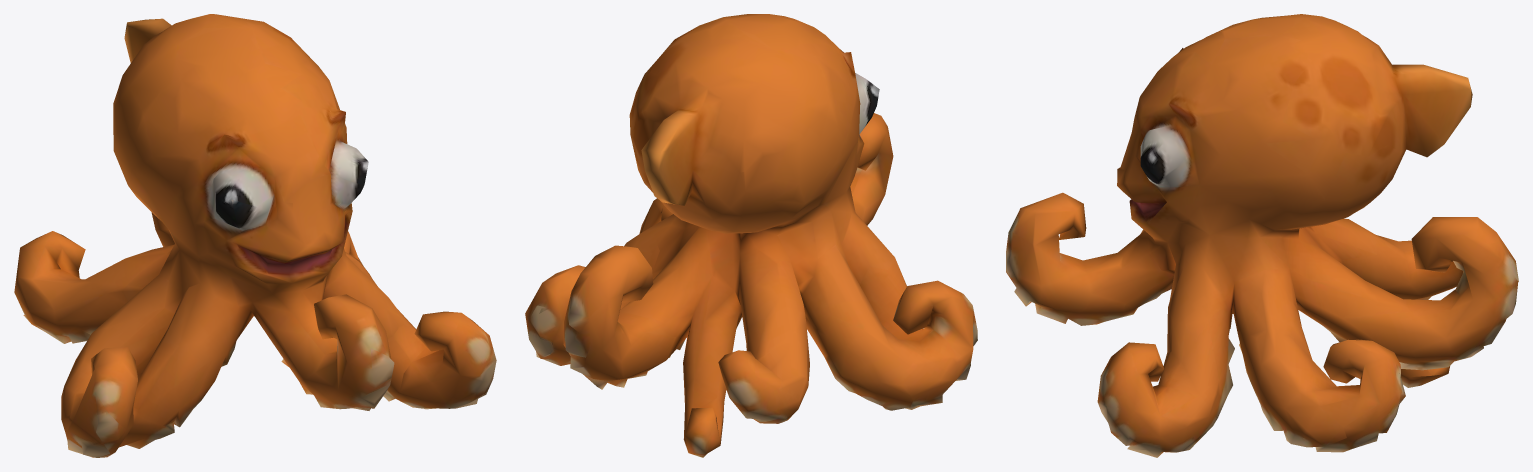
The model's file is fish-octopus.glb.
The picture shows the model from 3 angles, left to right: view 1: azimuth 30°, elevation 25°; view 2: azimuth 150°, elevation 25°; view 3: azimuth 270°, elevation 25°; orthographic projection. The views are drawn at different scales.
Parts seen in each view (by area): view 1: tripo_node_88d186c6-0c3b-4344-abc7-c71178f9f36d; view 2: tripo_node_88d186c6-0c3b-4344-abc7-c71178f9f36d; view 3: tripo_node_88d186c6-0c3b-4344-abc7-c71178f9f36d.
Part boxes in pixels (box(x1,y1,x2,y2)): tripo_node_88d186c6-0c3b-4344-abc7-c71178f9f36d: box(14, 14, 496, 457); tripo_node_88d186c6-0c3b-4344-abc7-c71178f9f36d: box(525, 14, 977, 457); tripo_node_88d186c6-0c3b-4344-abc7-c71178f9f36d: box(1006, 14, 1518, 457).
Size of the model in its own units: 0.8308 by 0.798 by 1.
1 material, 1 textured.
